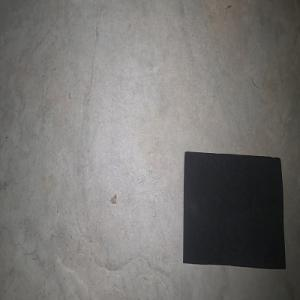PaintChip: (182, 151, 285, 269)
